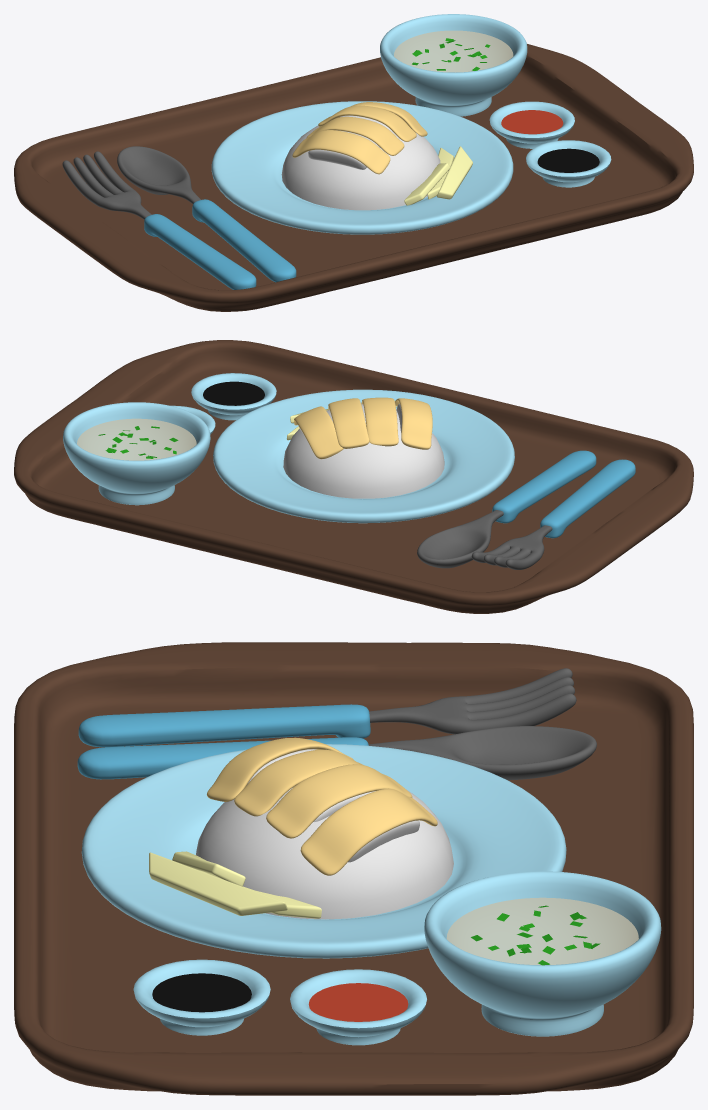
3 views of the same model, one above another, from view 1: azimuth 30°, elevation 25°; view 2: azimuth 150°, elevation 25°; view 3: azimuth 270°, elevation 25° (orthographic). The views are drawn at different scales.
Parts seen in each view (by area): view 1: Tray, Plate, Bowl_1, Rice, Chicken_Skin, Soup_Fill, Fork_1, Spoon_1, Handle_1, Handle, Saucer_2, Saucer_2_2 (+4 smaller); view 2: Tray, Plate, Bowl_1, Rice, Chicken_Skin, Soup_Fill, Spoon_1, Handle, Handle_1, Saucer_2, Fork_1, Saucer_2_Fill; view 3: Tray, Plate, Bowl_1, Rice, Chicken_Skin, Soup_Fill, Handle_1, Spoon_1, Fork_1, Cucumber, Saucer_2_2, Saucer_2 (+5 smaller).
Part boxes in pixels (<box>): Tray: <box>14,44,693,311</box>; Plate: <box>211,101,513,234</box>; Bowl_1: <box>380,14,527,116</box>; Rice: <box>281,125,440,210</box>; Chicken_Skin: <box>292,102,427,174</box>; Soup_Fill: <box>394,30,513,72</box>; Fork_1: <box>62,151,151,219</box>; Spoon_1: <box>117,146,201,203</box>; Handle_1: <box>144,214,256,289</box>; Handle: <box>192,199,296,282</box>; Saucer_2: <box>526,140,611,187</box>; Saucer_2_2: <box>489,101,574,148</box>; Tray: <box>14,340,693,613</box>; Plate: <box>213,389,514,523</box>; Bowl_1: <box>63,402,210,505</box>; Rice: <box>283,404,444,498</box>; Chicken_Skin: <box>294,397,432,459</box>; Soup_Fill: <box>77,418,196,460</box>; Spoon_1: <box>417,510,503,568</box>; Handle: <box>492,450,596,523</box>; Handle_1: <box>540,459,635,538</box>; Saucer_2: <box>191,373,276,420</box>; Fork_1: <box>471,525,552,569</box>; Saucer_2_Fill: <box>203,381,264,405</box>; Tray: <box>14,642,693,1095</box>; Plate: <box>81,744,566,958</box>; Bowl_1: <box>424,871,661,1036</box>; Rice: <box>196,790,453,919</box>; Chicken_Skin: <box>207,737,437,875</box>; Soup_Fill: <box>446,897,638,965</box>; Handle_1: <box>78,704,370,747</box>; Spoon_1: <box>368,726,596,780</box>; Fork_1: <box>369,668,576,734</box>; Cucumber: <box>149,851,321,918</box>; Saucer_2_2: <box>290,969,426,1045</box>; Saucer_2: <box>133,959,270,1035</box>.
Size of the model in its own units: 0.7012 by 0.0949 by 0.456.
